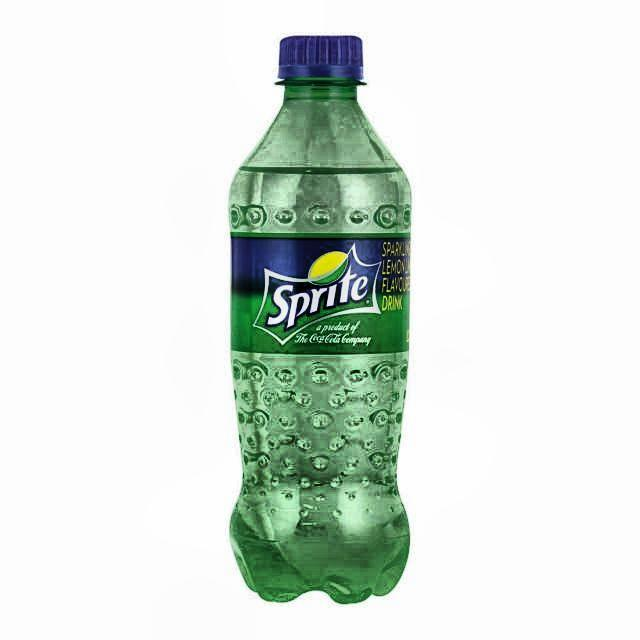plastic: (227, 34, 414, 607)
